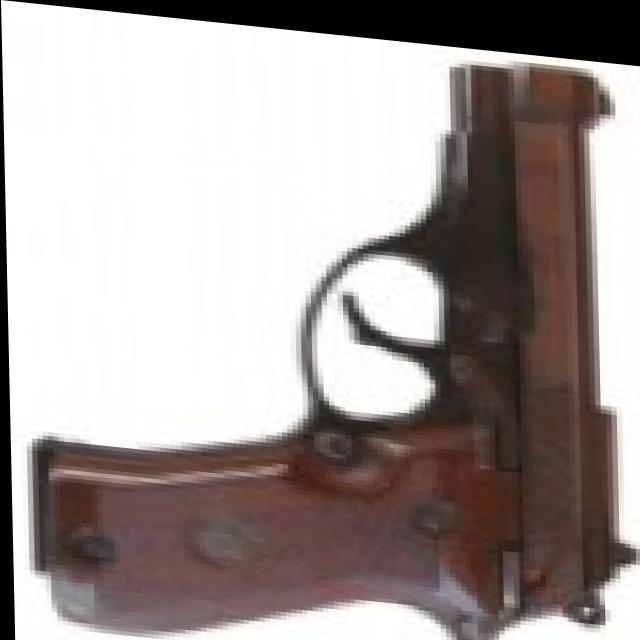handgun: (32, 7, 635, 640)
